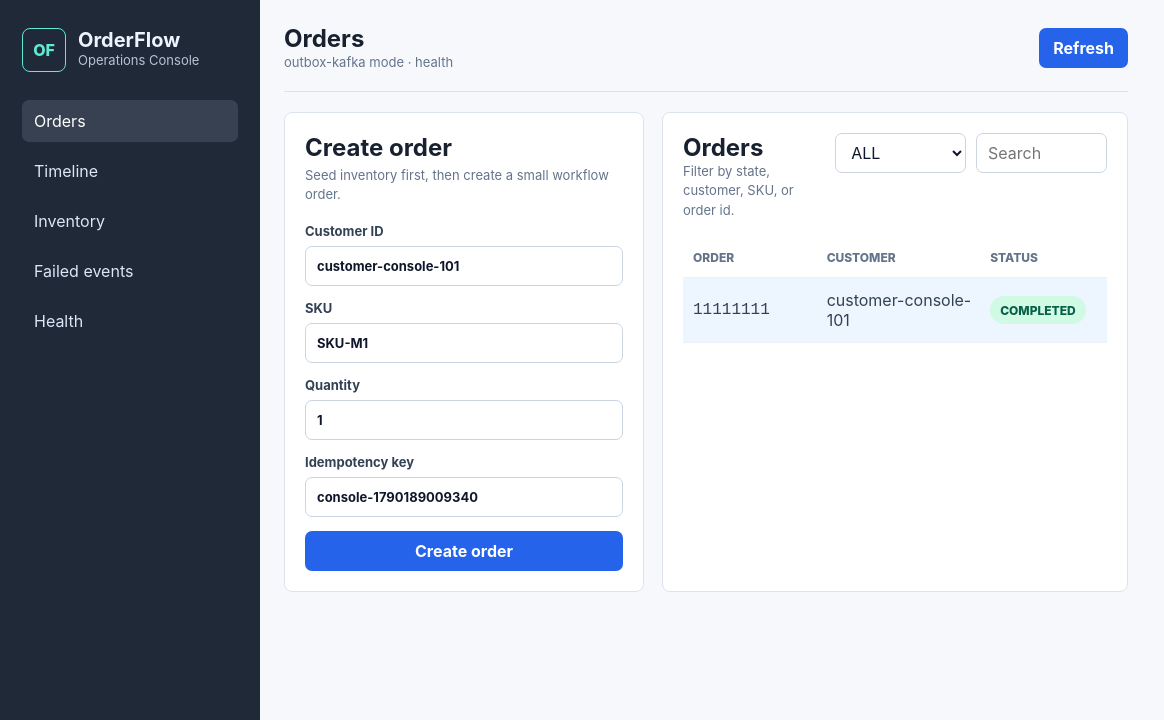
Scenario: App › keeps available console data visible when one section API fails
Expected: the text "customer-console-101" is shown, top-left (827, 290), bottom-right (976, 330)
Click the button "Failed events" at (130, 271), box top-left (22, 250), bottom-right (238, 292)
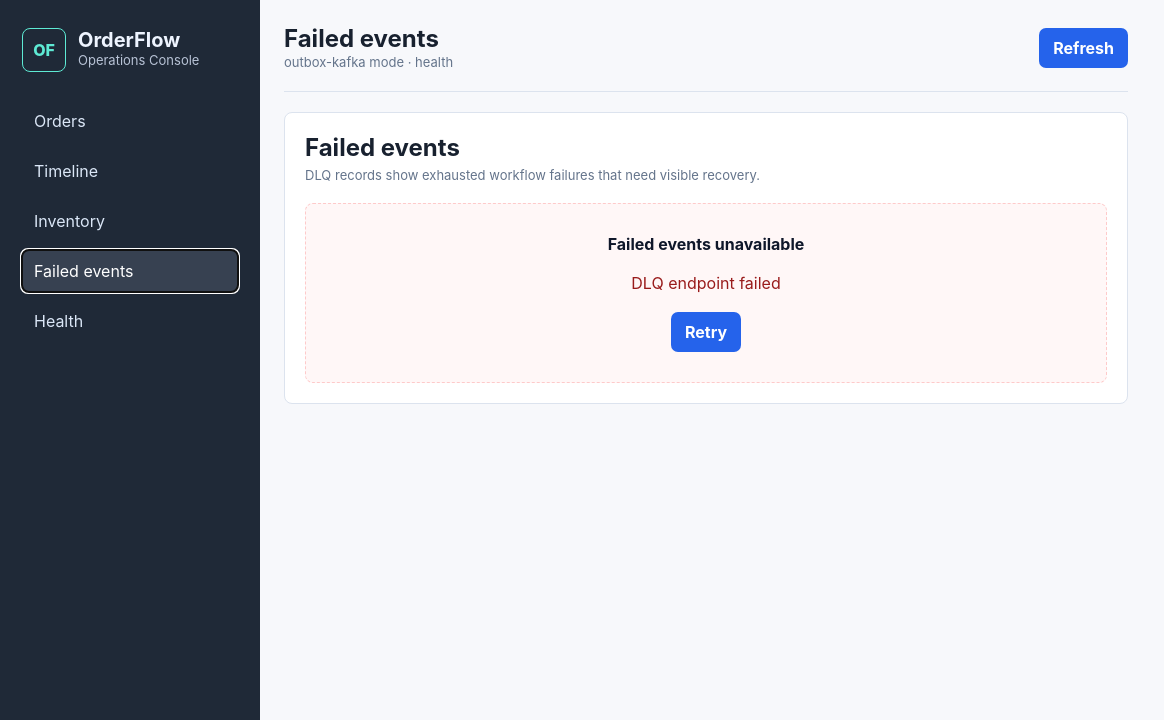
Expected: the text "Failed events unavailable" is shown, top-left (608, 234), bottom-right (804, 254)
Expected: the text "DLQ endpoint failed" is shown, top-left (631, 273), bottom-right (781, 293)
